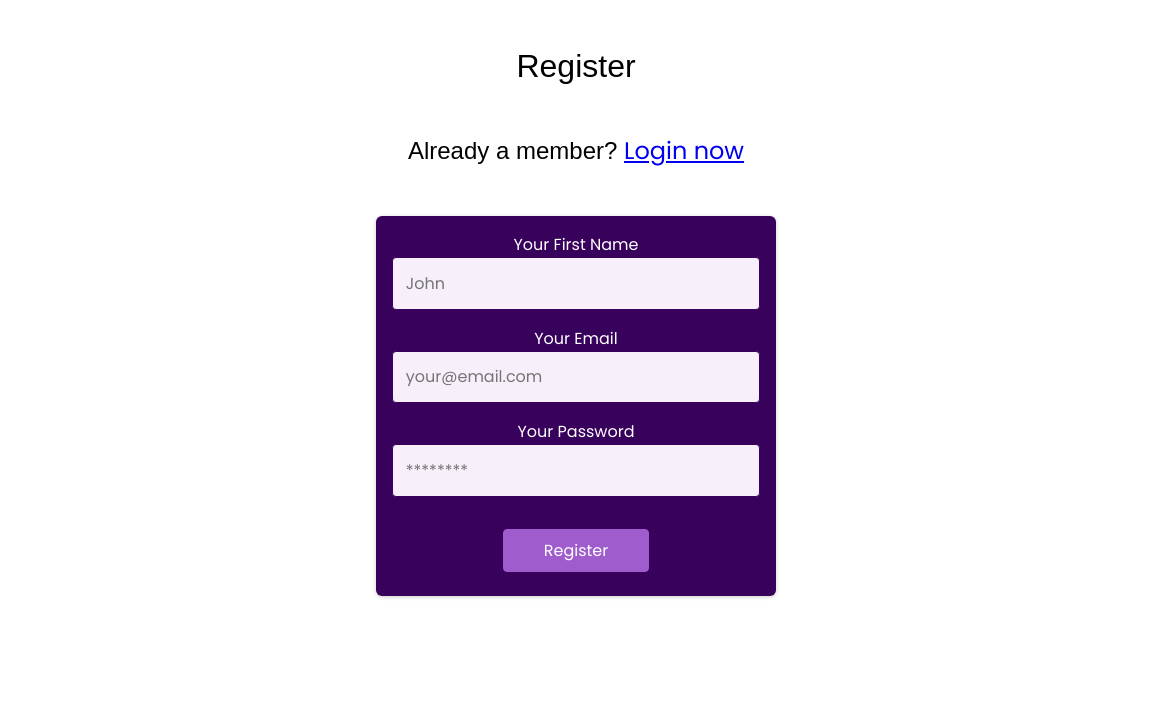
Test case: Behaviour of error modal › Error modal pops up if password is shorter than 4 characters.
The width and height of the screenshot is (1152, 720).
Step 1. Type "abc" into the password field with placeholder "********" → coordinates (576, 470), box [392,444,760,497]
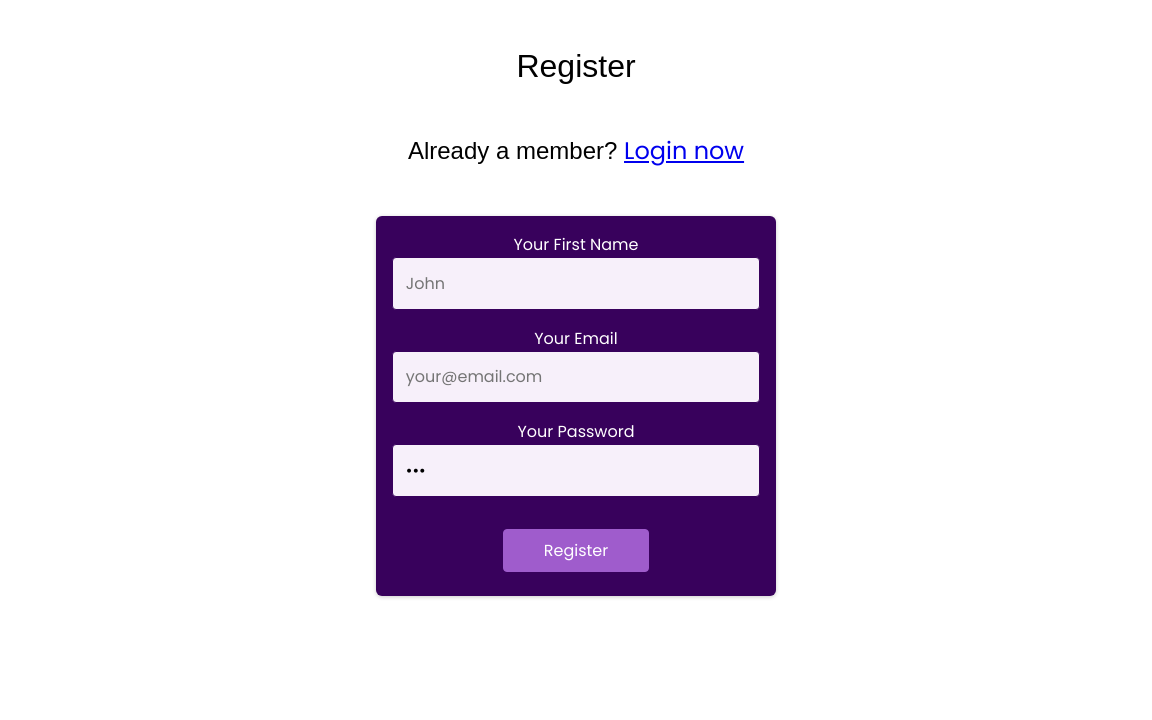
Step 2. Click the button with test id "registerBtn" → coordinates (576, 550), box [503,529,649,572]
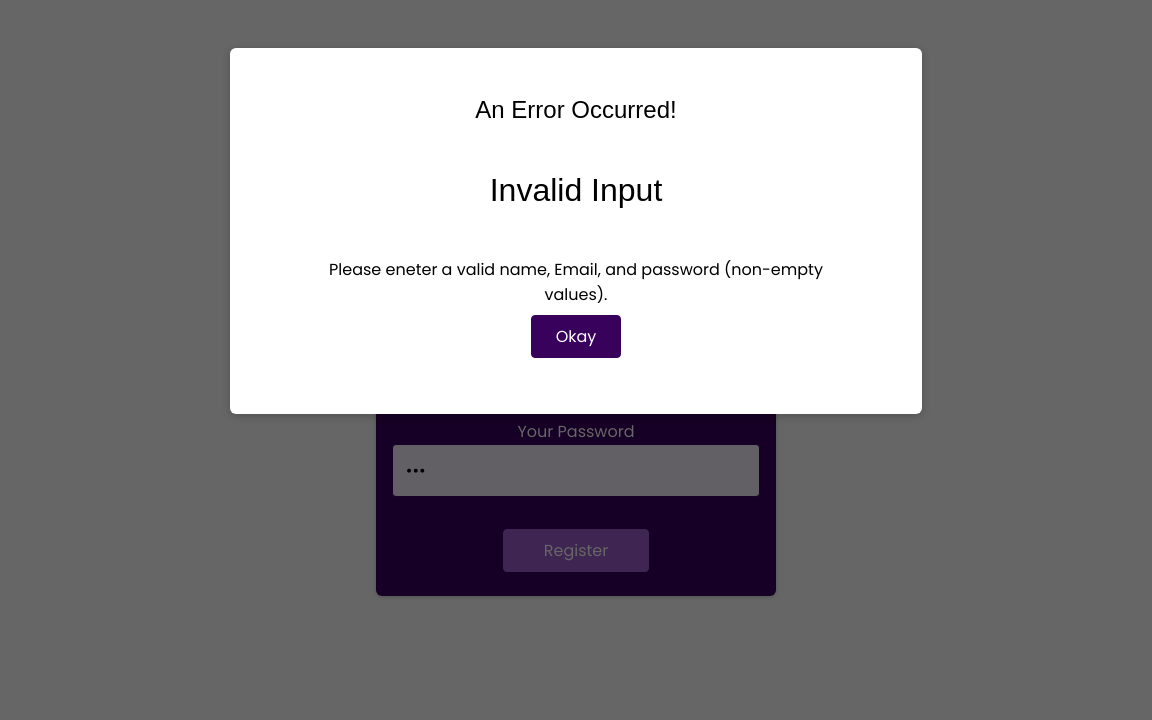
Expected: the heading "An Error Occurred!" is shown, [475,96,677,123]
